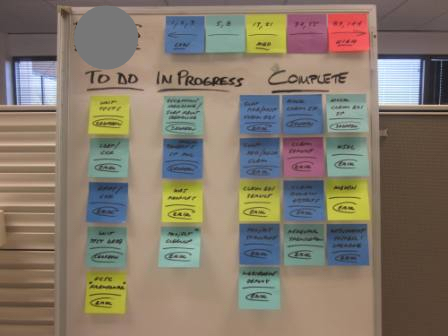stickynote: (158, 134, 208, 182), (80, 270, 130, 317), (83, 179, 132, 226), (158, 92, 208, 138), (83, 225, 131, 272), (158, 178, 206, 225), (155, 224, 202, 271), (324, 177, 373, 222), (87, 92, 134, 138), (325, 221, 371, 268), (237, 133, 285, 178), (237, 177, 283, 223), (237, 265, 282, 312), (325, 134, 372, 179), (324, 90, 371, 135), (86, 135, 131, 181), (281, 222, 326, 268), (280, 90, 326, 135), (237, 222, 282, 267), (237, 91, 283, 135), (283, 134, 326, 179), (283, 177, 325, 223), (327, 11, 371, 54), (285, 12, 329, 54), (163, 14, 205, 55), (205, 13, 246, 54), (246, 13, 286, 55)
